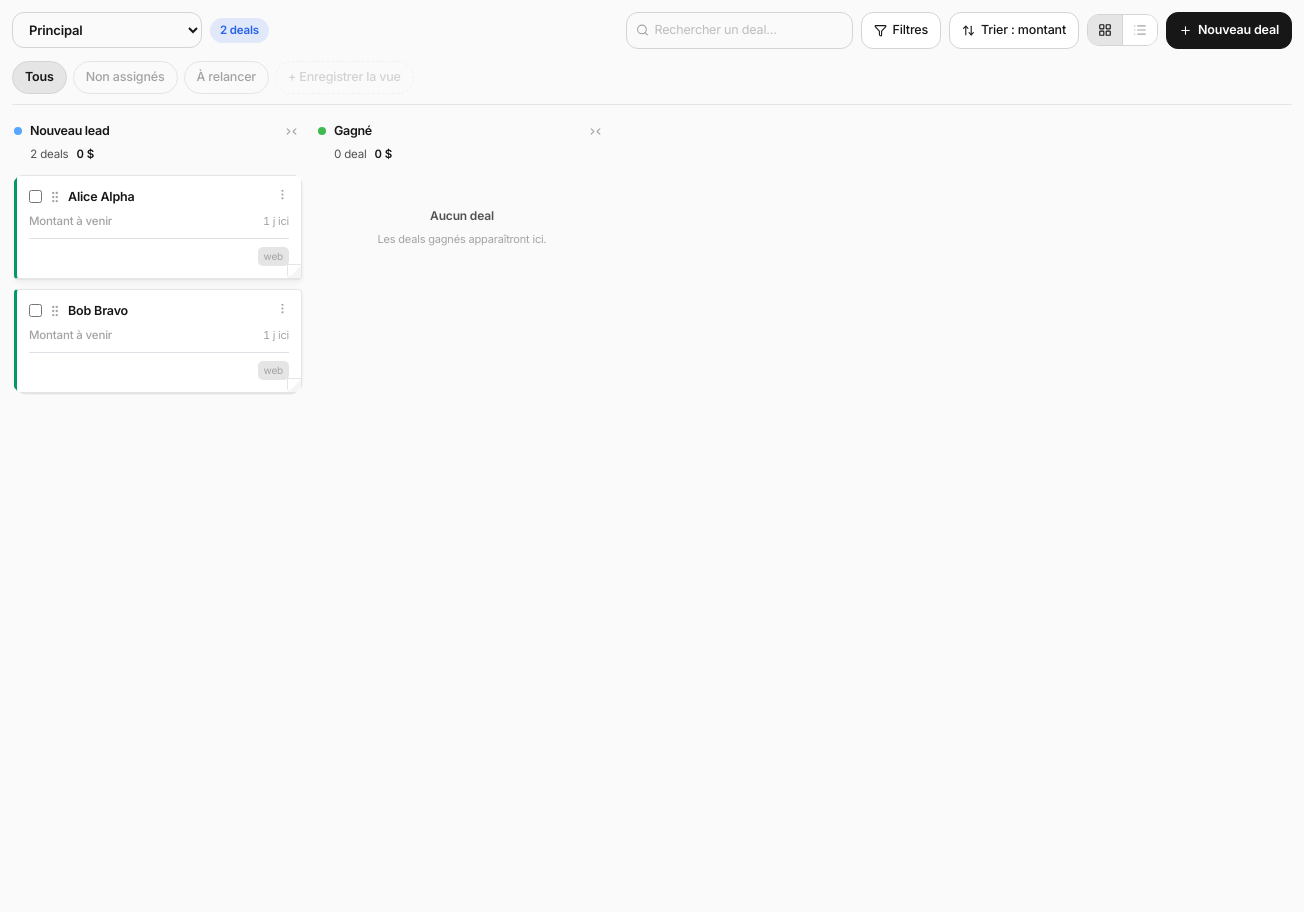
Test: tri par champ — les nouveaux types › le panneau propose maintenant listes, textes et cases au tri
Click the button "Filtres".
click(901, 30)  # box top-left (860, 12), bottom-right (941, 49)
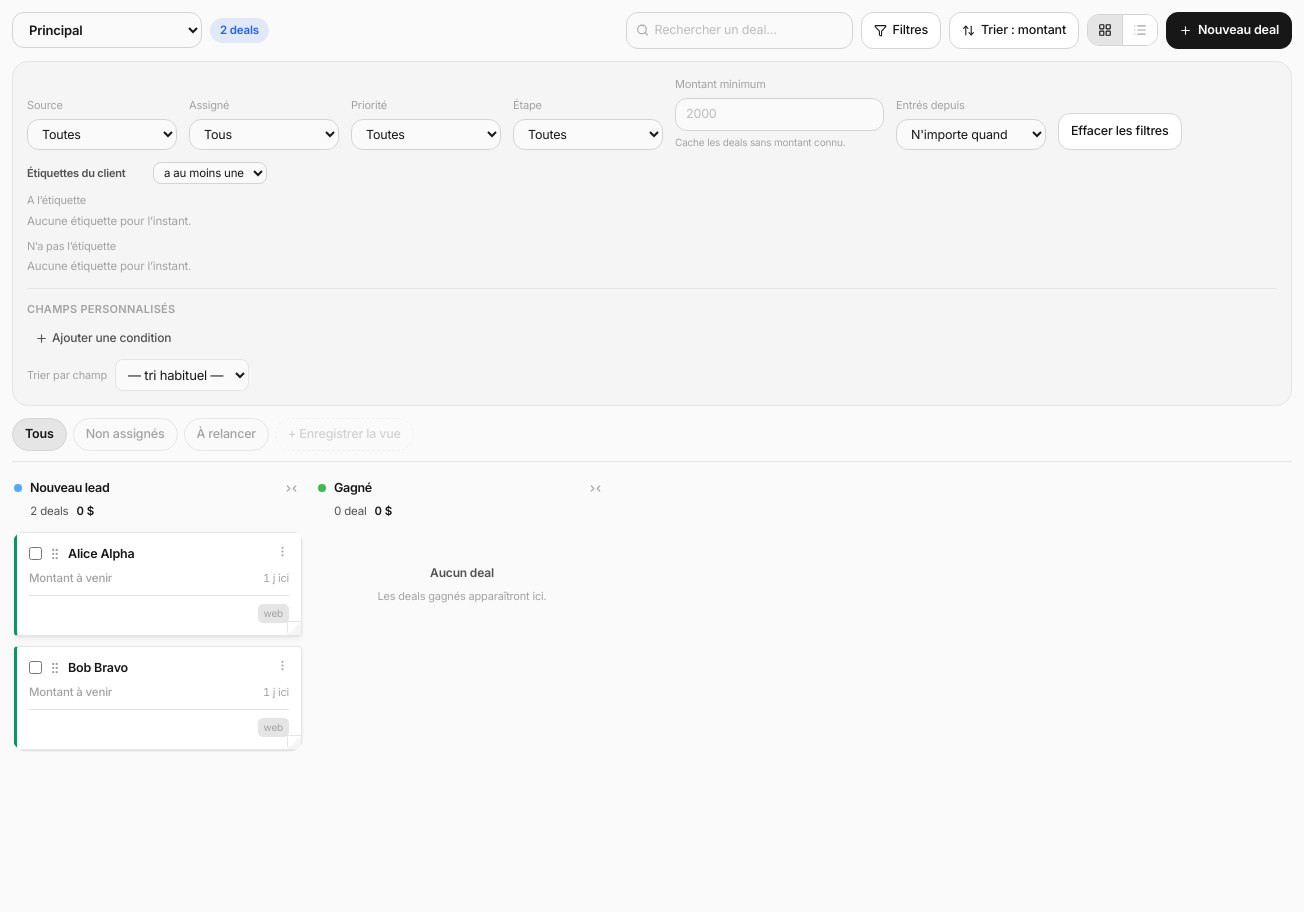
Expected: the label "Trier par champ" is shown, top-left (27, 367), bottom-right (107, 383)
